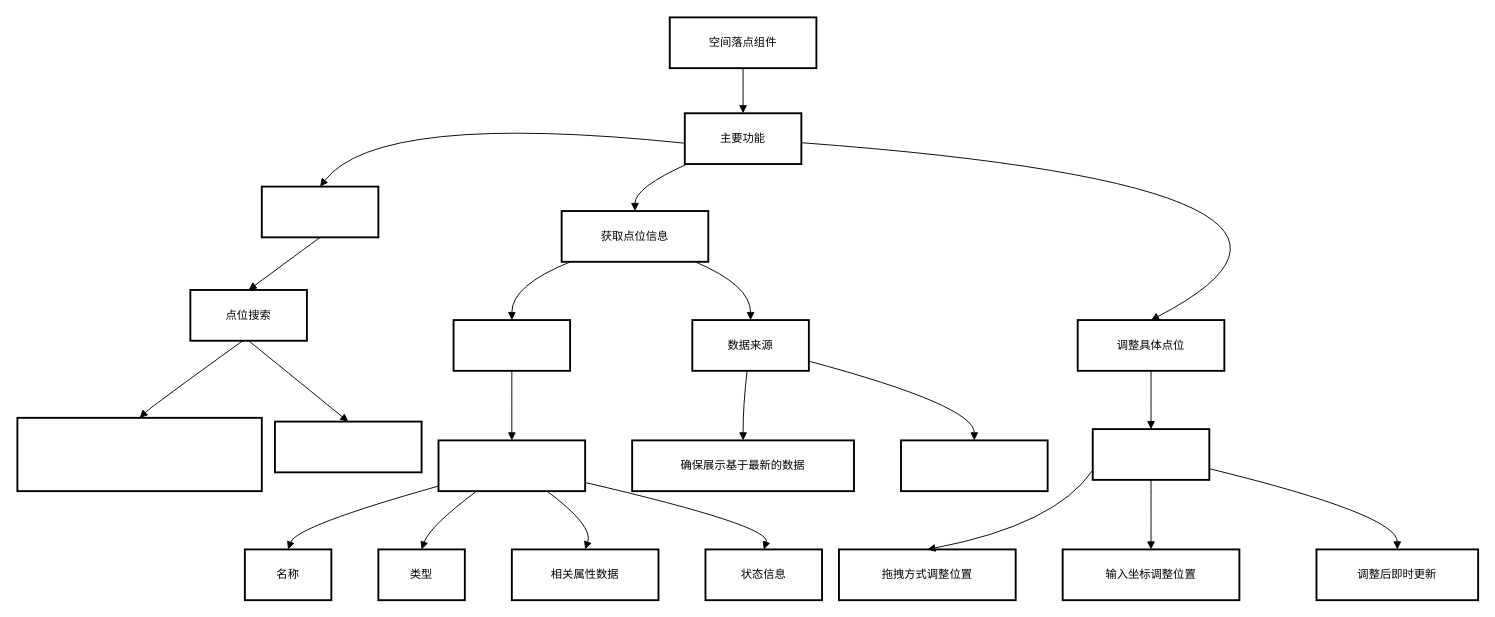
This 1495x617 diagram has some shape labels left out. The shapes that lost their labels are listed below. From the top down, each one's centre as x and y in pixels, then its label:
(x=319, y=211): 搜索功能
(x=511, y=345): 信息展示
(x=139, y=454): 输入地名、坐标或其他标识信息快速定位
(x=348, y=446): 支持模糊搜索
(x=511, y=465): 展示详细信息
(x=974, y=465): 支持动态更新
(x=1150, y=454): 点位调整
